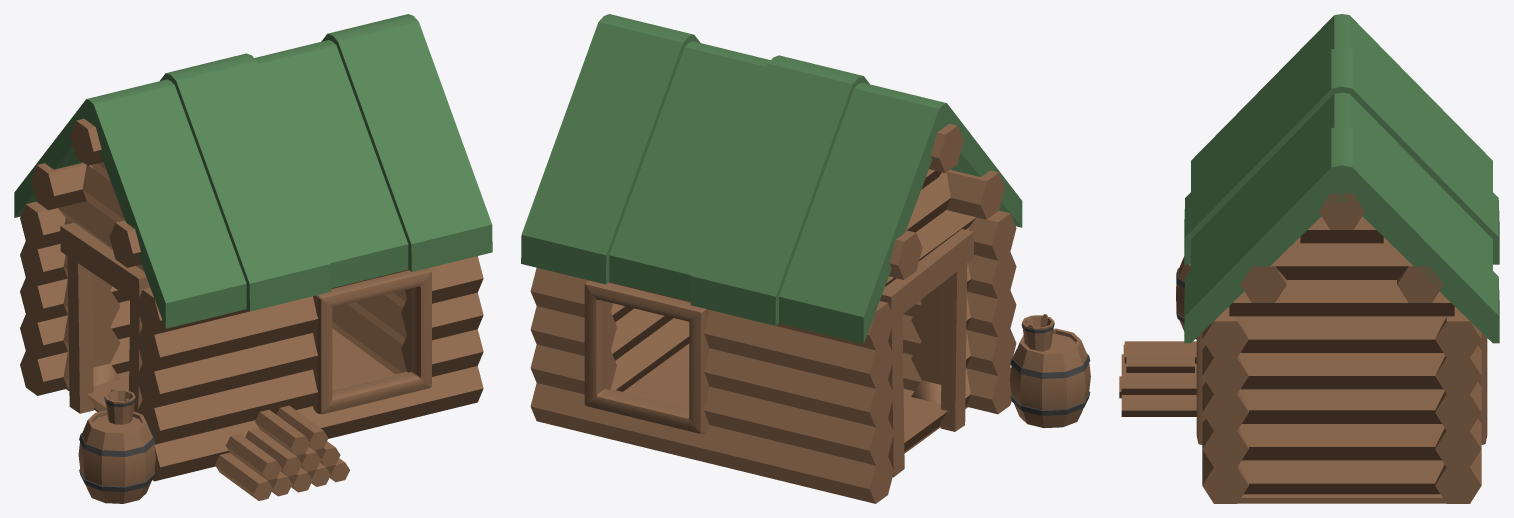
Rendered from cabin.glb.
3 renders of one model, left to right at view 1: azimuth 30°, elevation 25°; view 2: azimuth 150°, elevation 25°; view 3: azimuth 270°, elevation 25°, orthographic. The views are drawn at different scales.
Parts seen in each view (by area): view 1: pCube6, pCylinder1, pCube1, pCylinder11, pCylinder4, pCylinder2, polySurface3, polySurface29, pCylinder20, pCube2, polySurface8, pCube5 (+19 smaller); view 2: pCube6, pCylinder35, pCube7, pCylinder37, pCylinder36, pCylinder38, polySurface26, polySurface29, polySurface8, pCylinder20, pCube4, pCube5 (+14 smaller); view 3: pCube6, pCylinder30, pCylinder29, pCylinder27, pCylinder26, pCylinder28, pCylinder23, polySurface26, polySurface3, pCylinder24, pCylinder20, pCube8 (+12 smaller).
Part boxes in pixels (box(x1,y1,x2,y2)): pCube6: box(14, 14, 492, 328); pCylinder1: box(152, 366, 483, 481); pCube1: box(313, 268, 431, 414); pCylinder11: box(137, 333, 318, 407); pCylinder4: box(136, 296, 318, 371); pCylinder2: box(137, 369, 318, 444); polySurface3: box(401, 256, 483, 376); polySurface29: box(78, 410, 155, 503); pCylinder20: box(31, 118, 141, 267); pCube2: box(67, 256, 93, 413); polySurface8: box(63, 218, 128, 411); pCube5: box(60, 222, 150, 302); pCube6: box(521, 14, 1022, 343); pCylinder35: box(530, 383, 893, 503); pCube7: box(584, 280, 709, 433); pCylinder37: box(704, 348, 893, 426); pCylinder36: box(704, 386, 893, 465); pCylinder38: box(704, 310, 893, 388); polySurface26: box(530, 268, 616, 394); polySurface29: box(1009, 328, 1090, 428); polySurface8: box(903, 228, 970, 451); pCylinder20: box(889, 123, 1004, 279); pCube4: box(940, 264, 967, 431); pCube5: box(880, 229, 974, 321); pCube6: box(1184, 14, 1499, 343); pCylinder30: box(1237, 316, 1446, 352); pCylinder29: box(1238, 353, 1445, 389); pCylinder27: box(1239, 424, 1444, 460); pCylinder26: box(1239, 460, 1444, 494); pCylinder28: box(1239, 389, 1444, 423); pCylinder23: box(1229, 280, 1454, 316); polySurface26: box(1435, 345, 1481, 467); polySurface3: box(1202, 345, 1248, 467); pCylinder24: box(1270, 237, 1413, 279); pCylinder20: box(1240, 193, 1443, 302); pCube8: box(1237, 494, 1446, 503).
Bounding box in the file's own units: 3.66 × 3.03 × 3.06.
